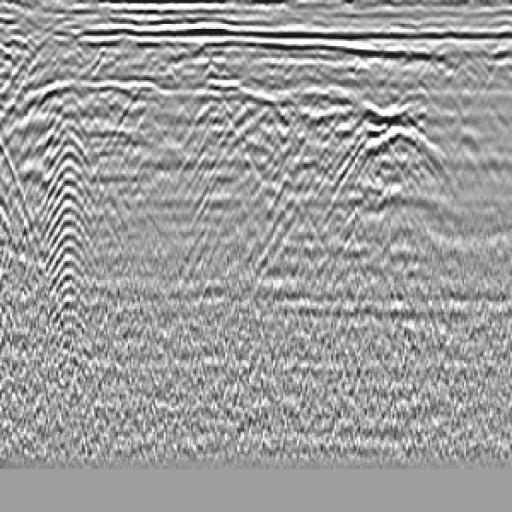metalic: (65, 54, 235, 295), (174, 62, 324, 260)
non-metallic: (311, 73, 463, 190)
